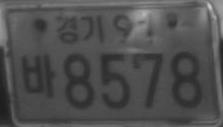1: (137, 12, 156, 41)
5: (99, 52, 130, 110)
7: (131, 52, 163, 108)
8: (169, 50, 203, 109), (62, 52, 95, 108)
9: (112, 13, 134, 43)
경기_H: (55, 14, 105, 44)
바: (20, 53, 56, 97)
